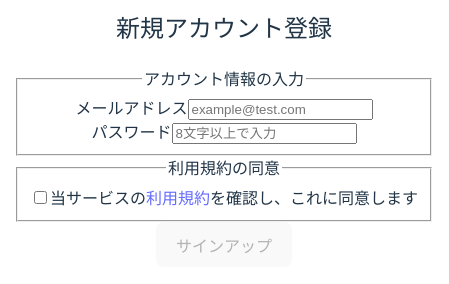
Scenario: AccountForm コンポーネントのテスト › 「利用規約の同意」チェックボックスを押下すると「サインアップ」ボタンが活性化
Click the checkbox at (40, 197), box [34,191,47,204]
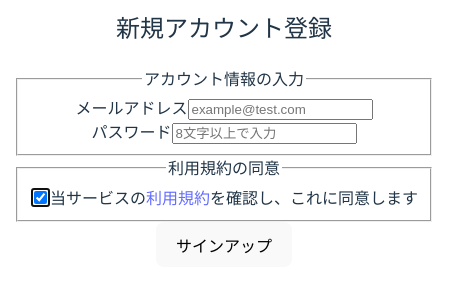
Expected: the button "サインアップ" is enabled, [156,222,292,267]
